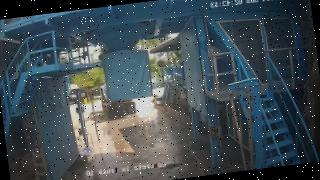cement_mixer_truck: (100, 81, 136, 118)
